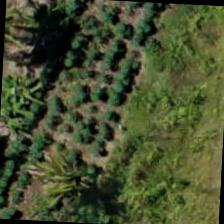Kelapa_Sawit: (22, 139, 117, 223)
